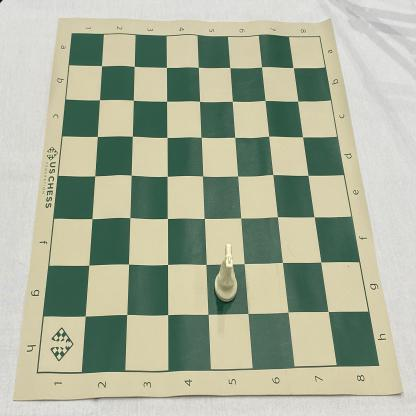white-knight: (214, 243, 238, 303)
